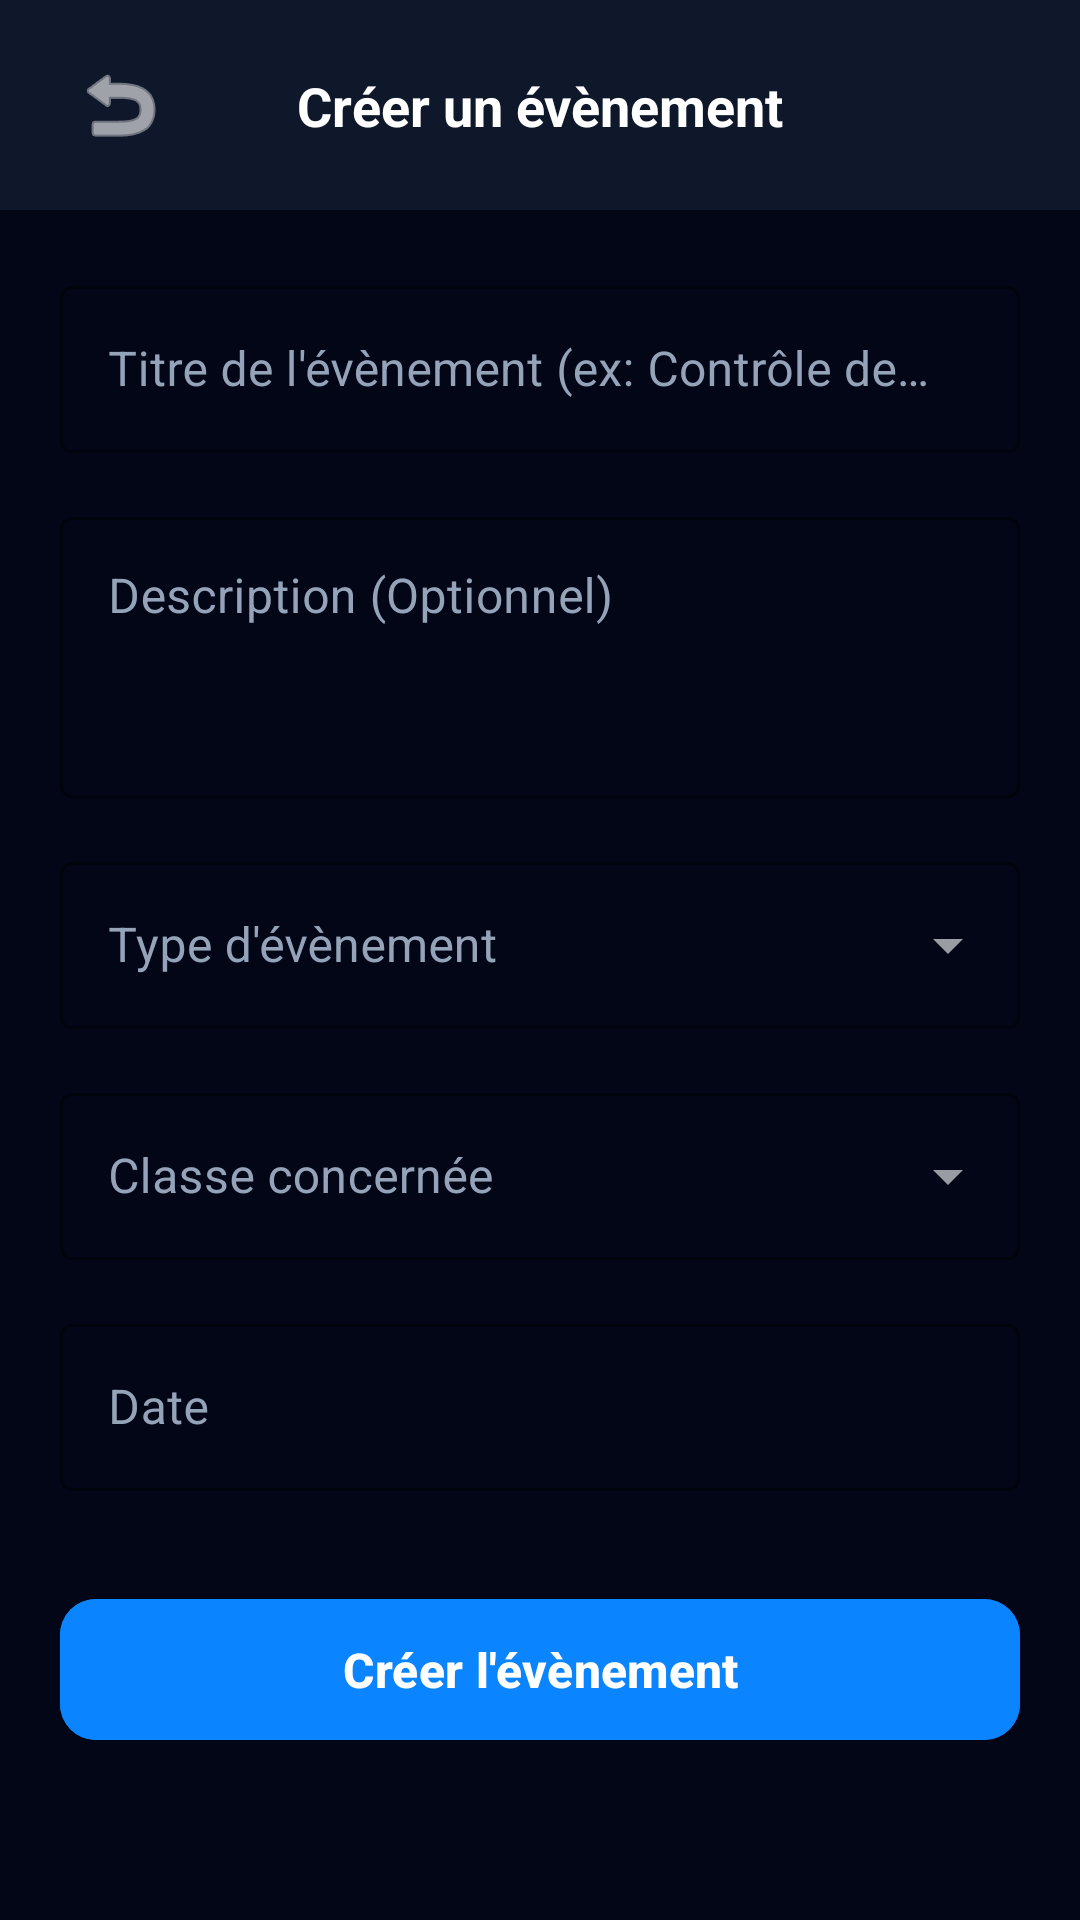

Icons on this 1080px x 1920px Android screen, each with its box as {"left": x1, "top": y1, "right": x2, "bottom": y2}:
revert: {"left": 87, "top": 74, "right": 156, "bottom": 137}
